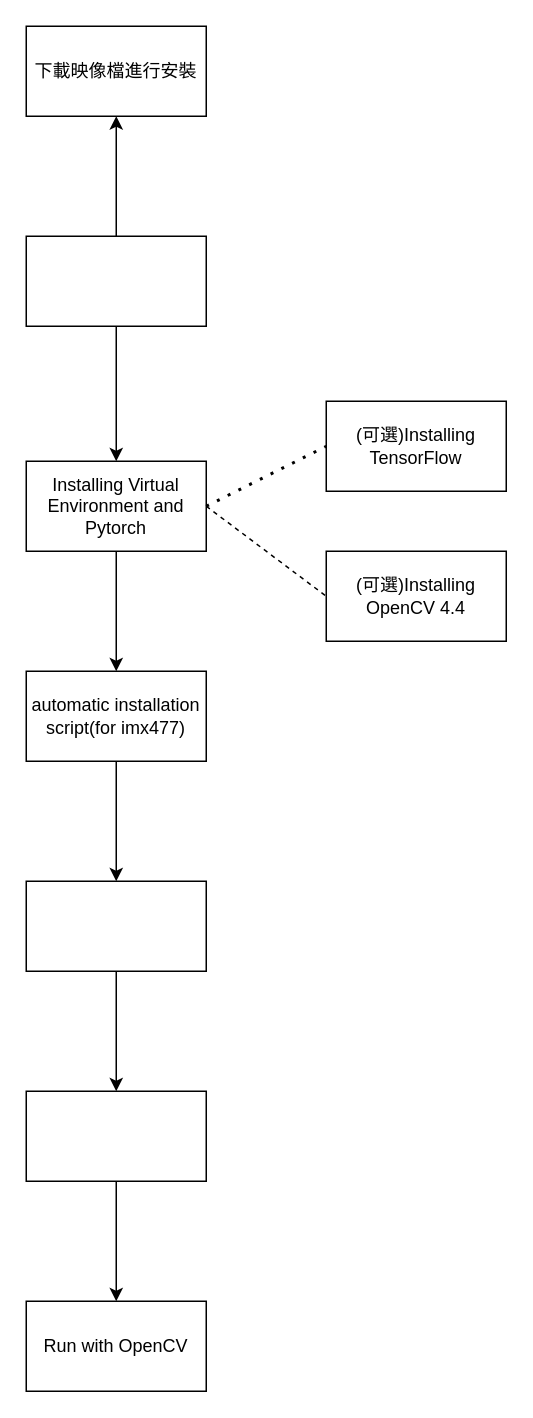
Image size: 533x1418. Some labels were removed from this diagram. The centre of each missing label's shape, as x and y in pixels:
"Check camera and the video format" goes at point (115, 925).
"Example pipelines" goes at point (115, 1135).
"以SSD運行作業系統" goes at point (115, 280).
